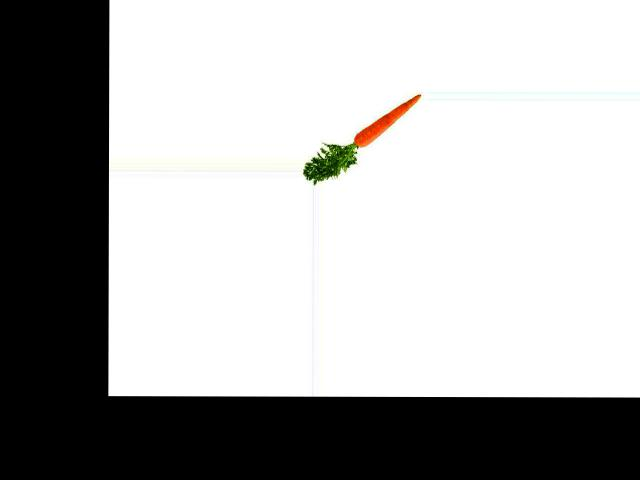carrot: (346, 91, 423, 149)
